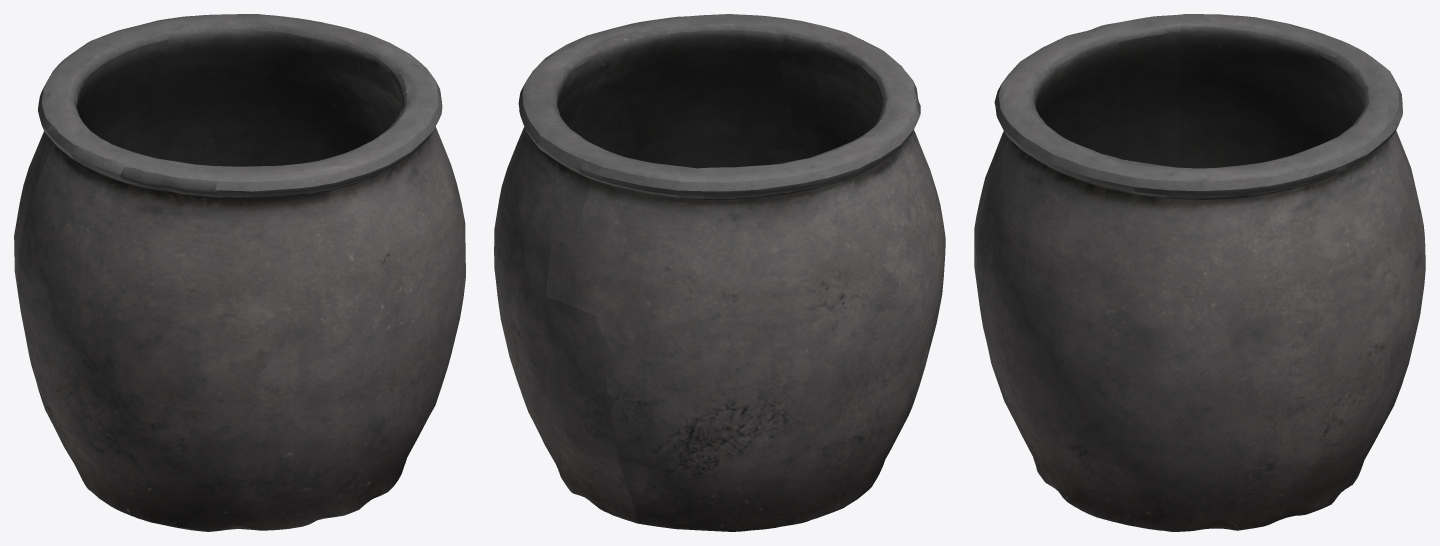
The model's file is jar.glb.
The picture shows the model from 3 angles, left to right: view 1: azimuth 30°, elevation 25°; view 2: azimuth 150°, elevation 25°; view 3: azimuth 270°, elevation 25°; orthographic projection.
Visible parts, largest first — view 1: world; view 2: world; view 3: world.
Part boxes in pixels (x1,y1,x2,y2): world: (14,14,465,531); world: (494,14,945,531); world: (974,14,1425,531).
Size of the model in its own units: 0.32 by 0.2896 by 0.3197.
Materials: 1 (1 with a texture image).
